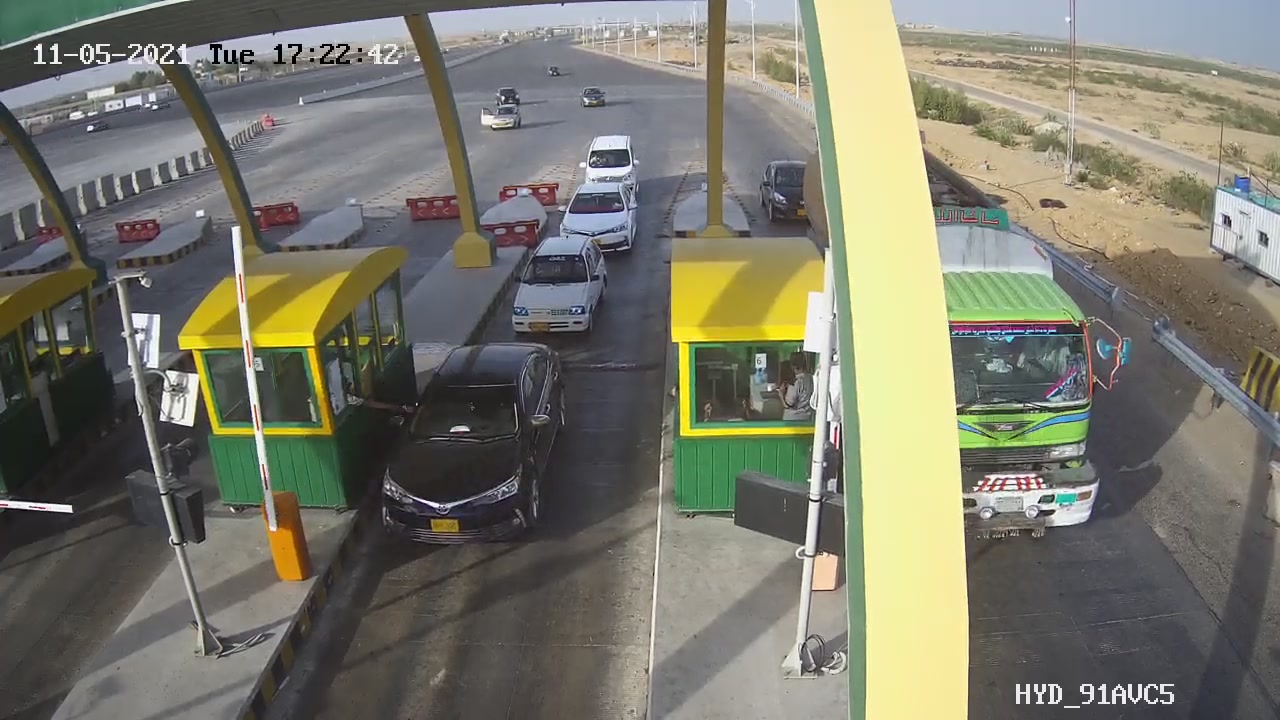F1: (364, 330, 586, 562), (498, 225, 624, 343)
